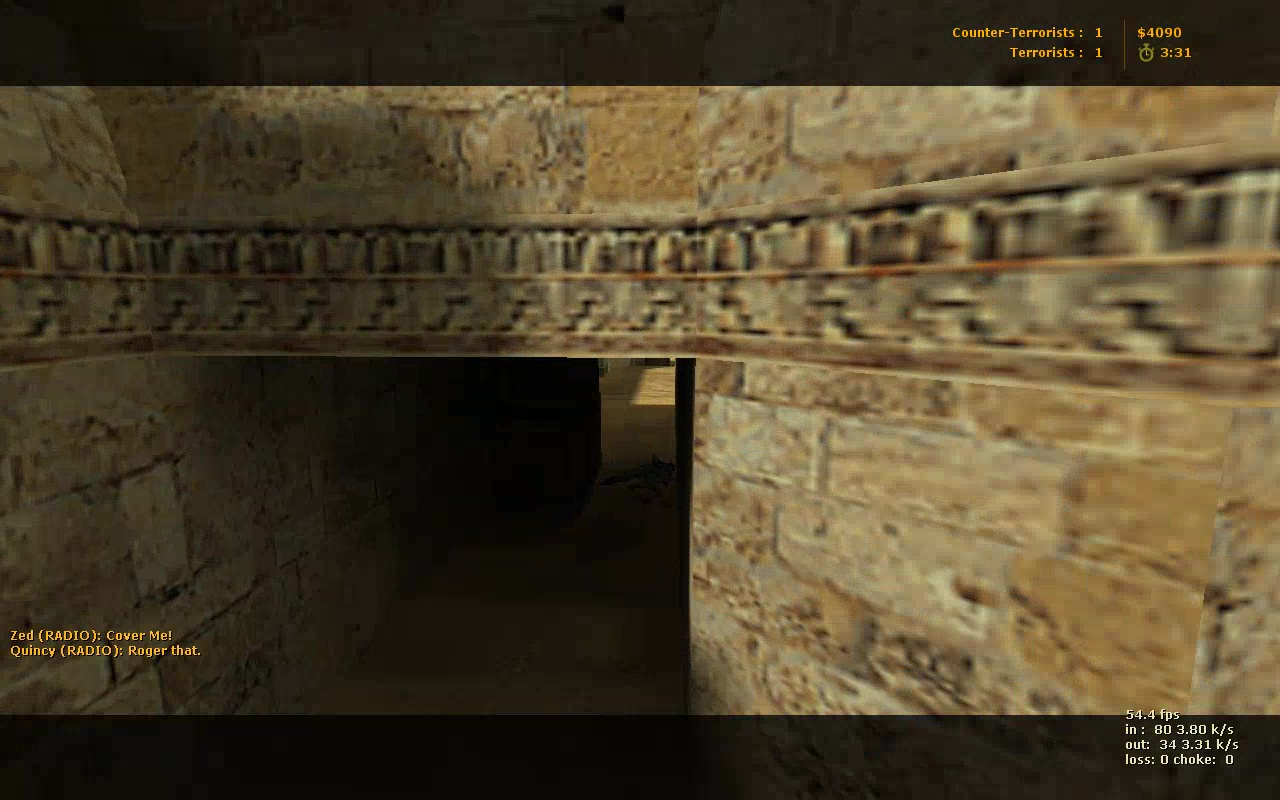dead: (597, 455, 674, 497)
